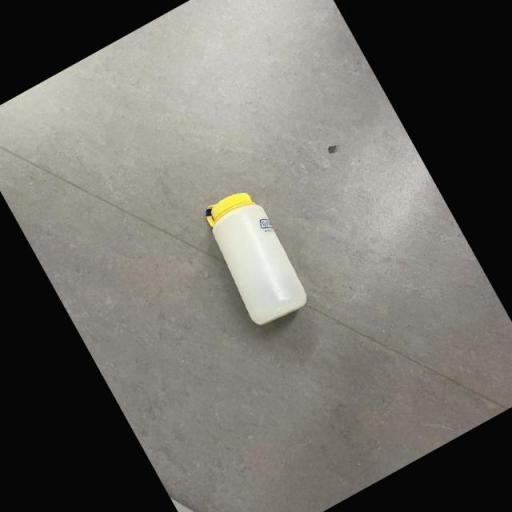bottle: (192, 182, 316, 333)
